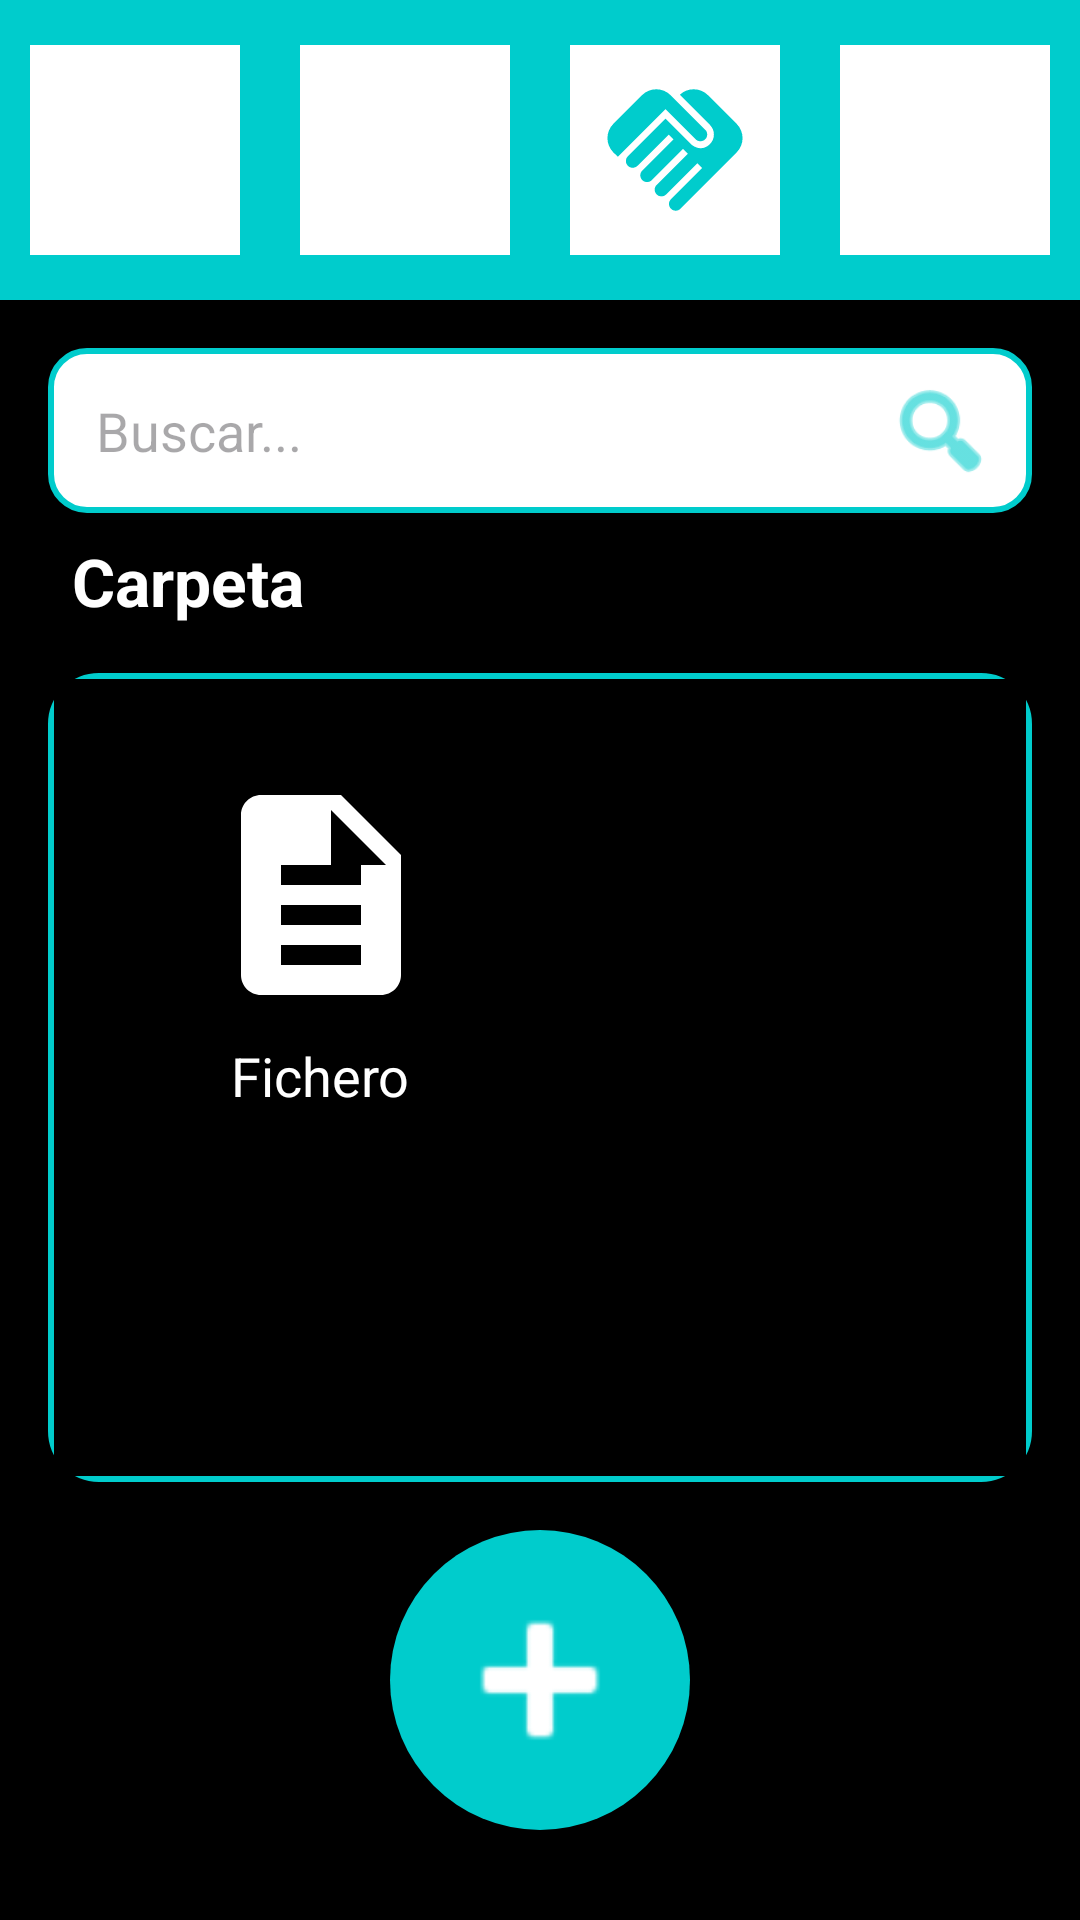

Where to tap for icons on this 1080px×1920px app screen, as (x,y):
Añadir: (540,1680)
Entorno compartido: (675,150)
search: (940,431)
